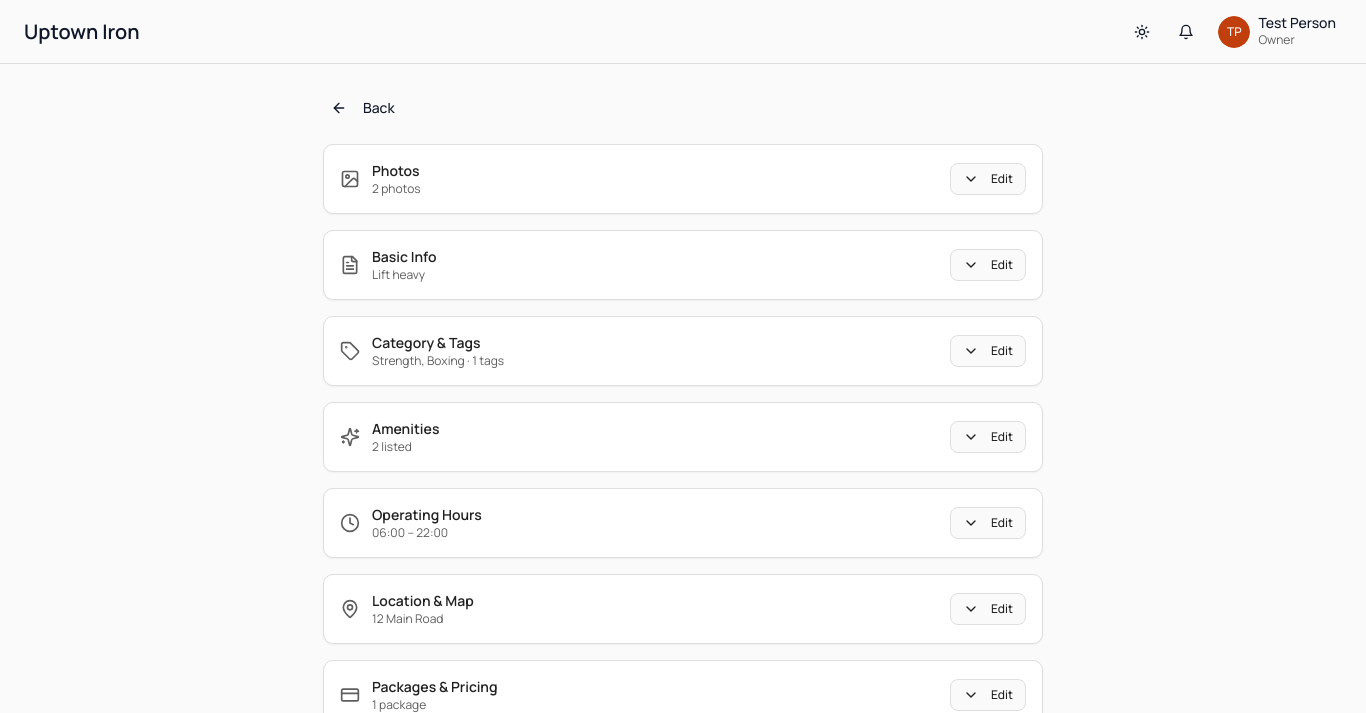
Test: Listing editor: Basic Info › a 202 is reported as sent for approval, not as saved
Click the button "Edit" in the row of "Basic Info" at [988, 265], box [950,249,1026,281]
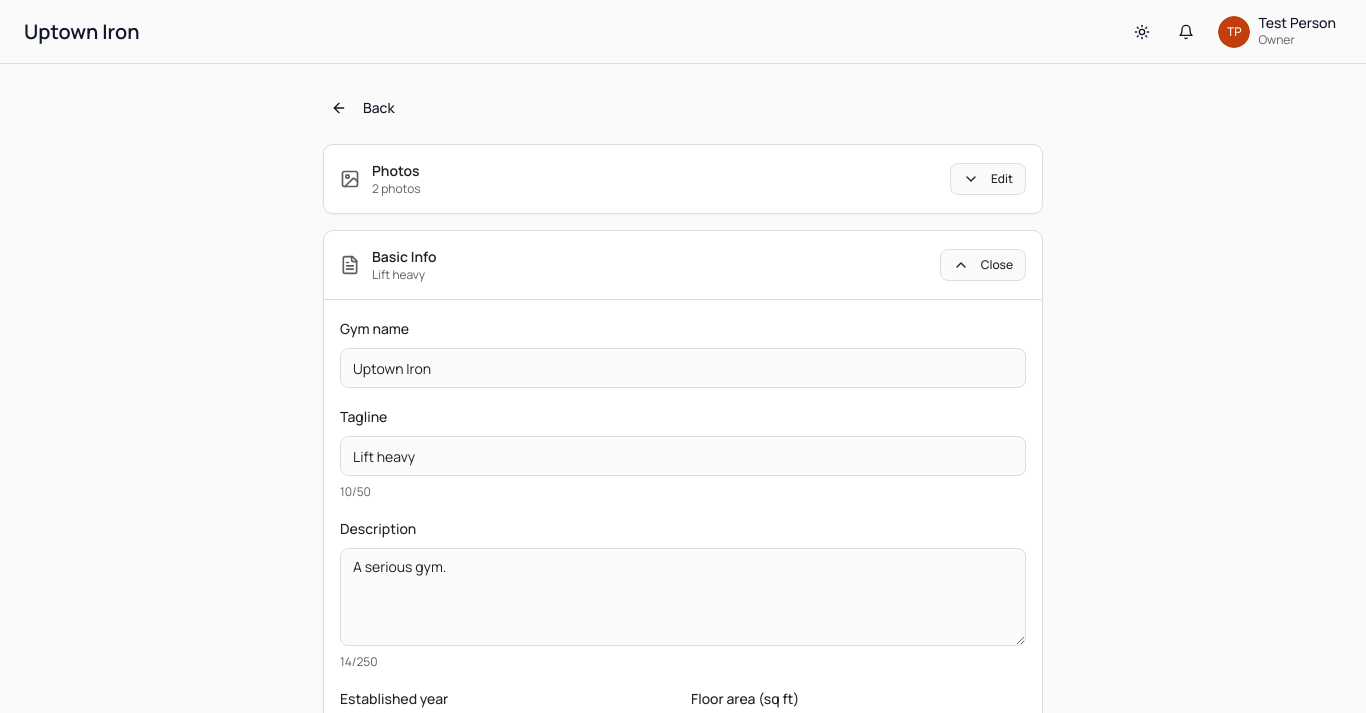
Replace the text in the field labelled "Tagline" with "New line" at [683, 456], box [340,436,1026,476]
(page scrolled)
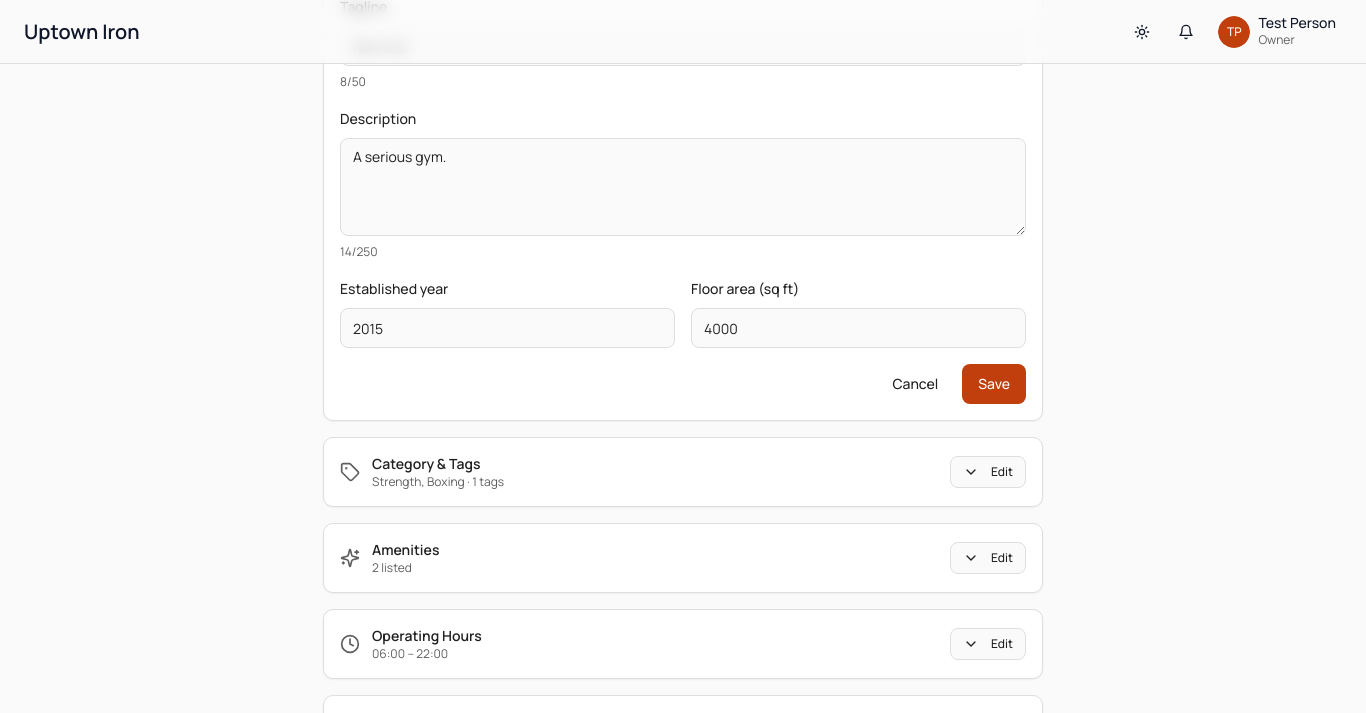
Click the button "Save" at [994, 384], box [962,364,1026,404]
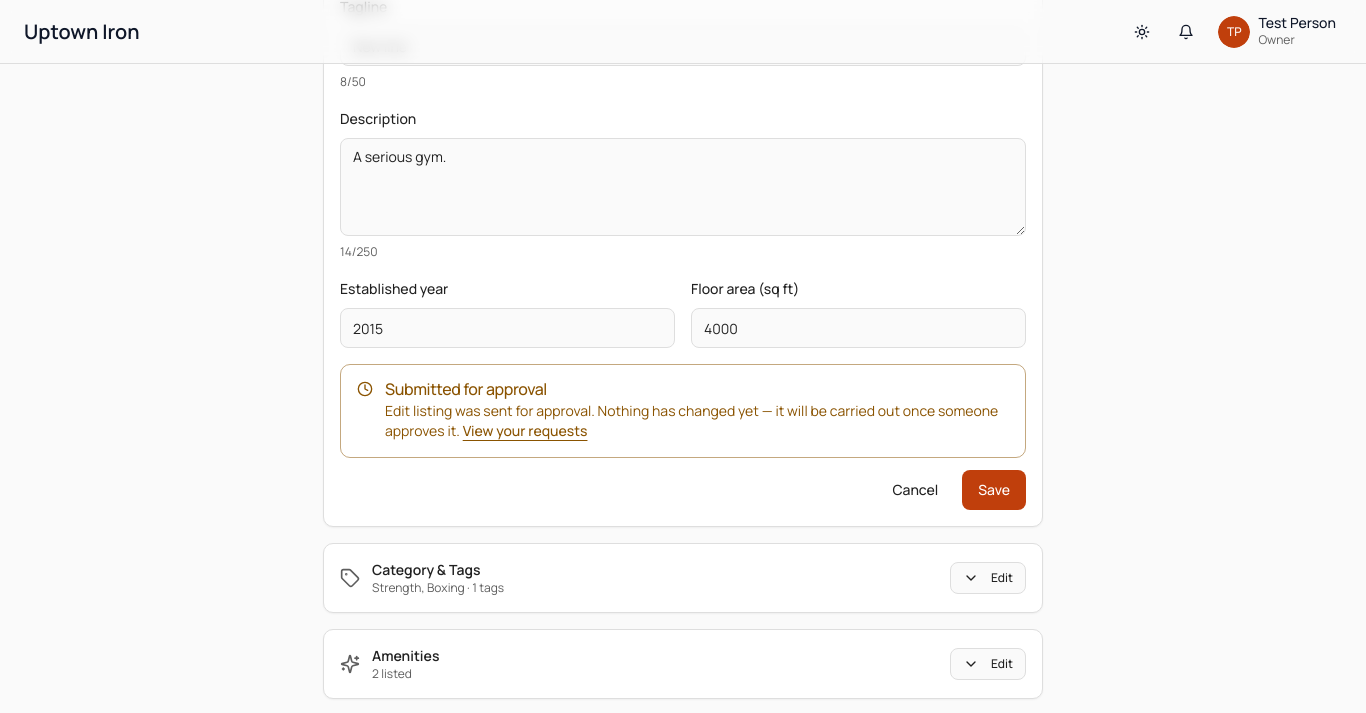
Result: the heading "Submitted for approval" is shown at [385,378,547,400]
